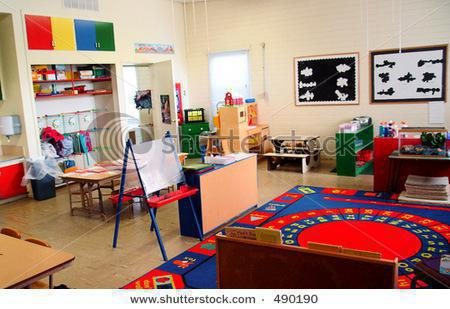Bote de Basura: (26, 153, 59, 202)
Otro Obstaculo: (125, 135, 201, 264)
Puerta: (149, 62, 182, 147)
